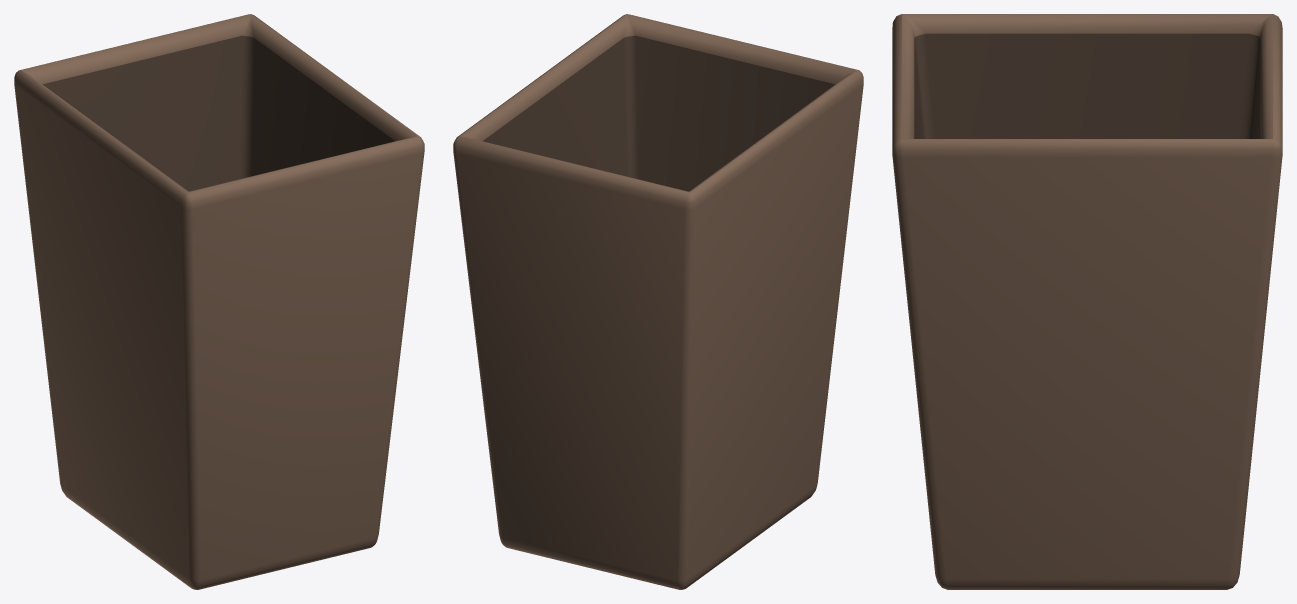
Rendered from trashcan.fbx.
The picture shows the model from 3 angles, left to right: view 1: azimuth 30°, elevation 25°; view 2: azimuth 150°, elevation 25°; view 3: azimuth 270°, elevation 25°; orthographic projection. The views are drawn at different scales.
Parts seen in each view (by area): view 1: trash; view 2: trash; view 3: trash.
Part boxes in pixels (x1,y1,x2,y2): trash: [14, 14, 424, 589]; trash: [453, 14, 863, 589]; trash: [892, 14, 1282, 589].
Size of the model in its own units: 46.91 by 77.71 by 58.95.
